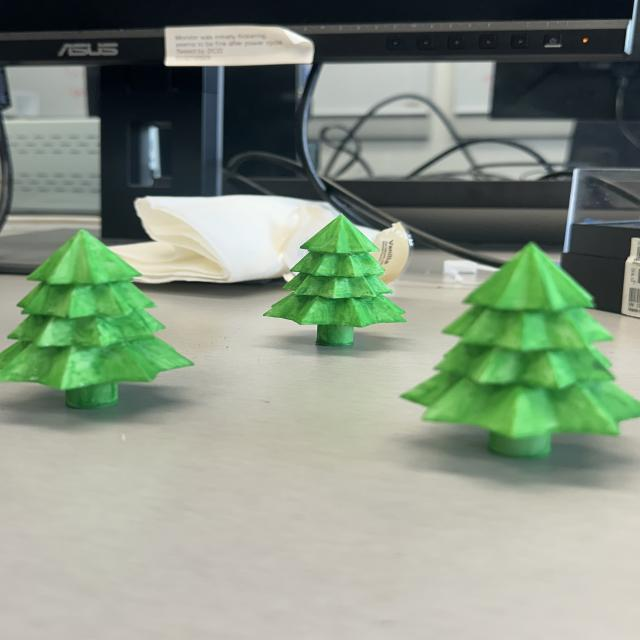tree: (395, 239, 640, 458), (0, 229, 194, 408), (261, 211, 414, 348)
